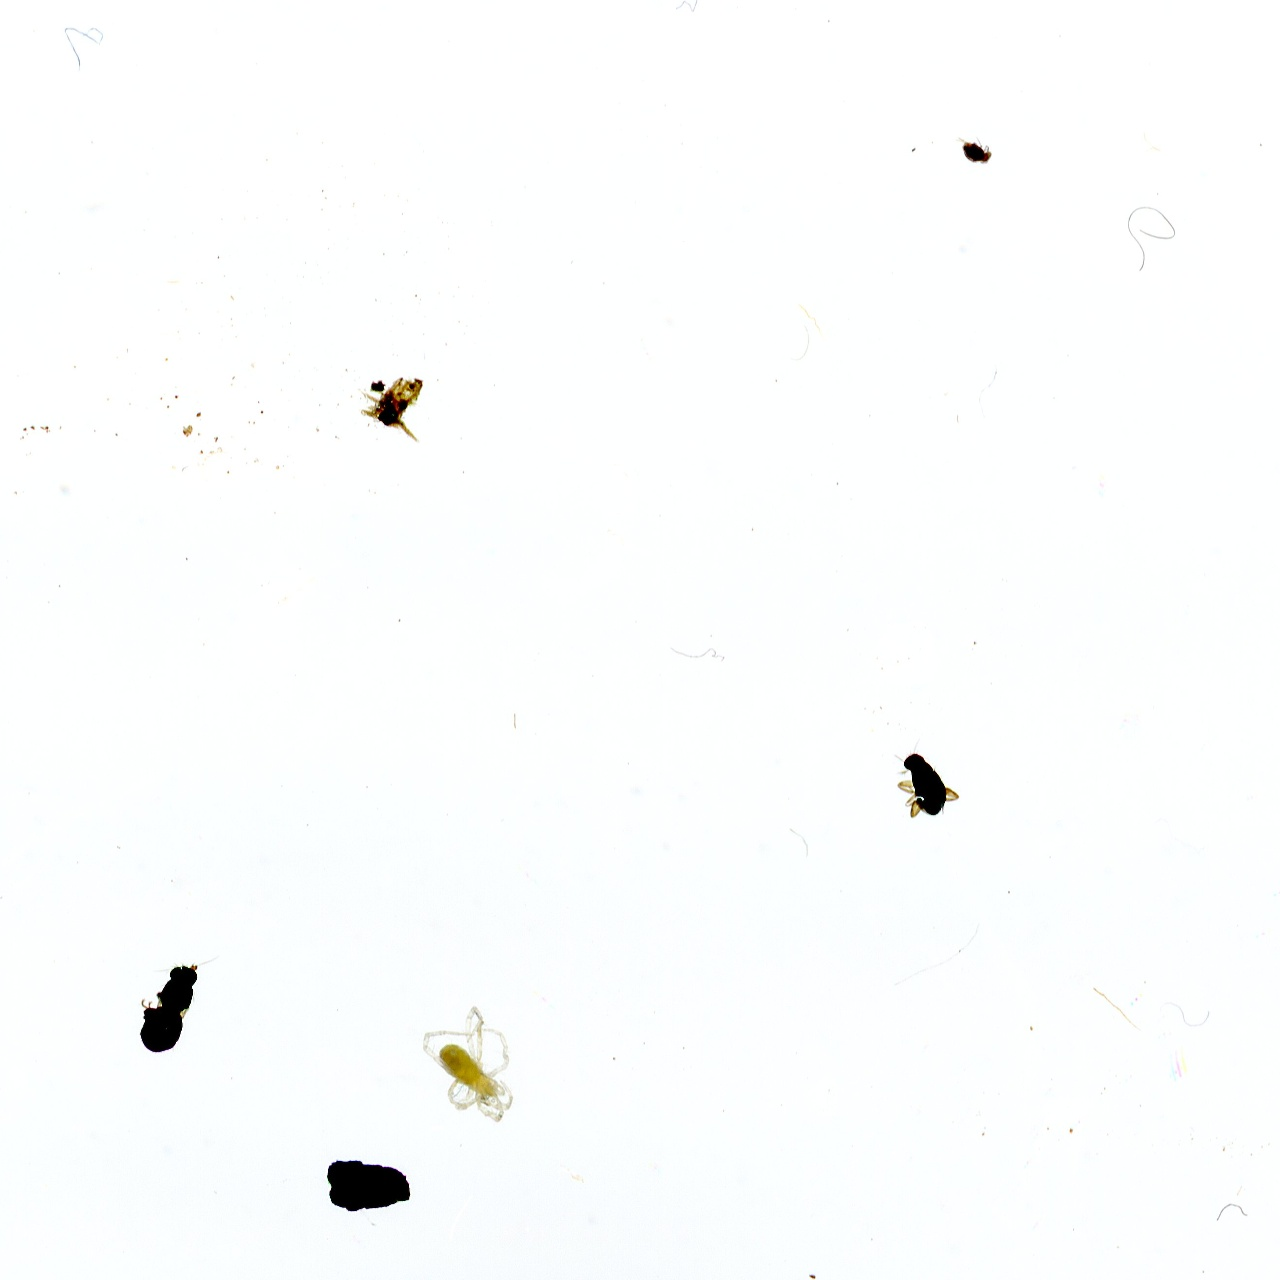arthropod: (121, 927, 230, 1069), (418, 1005, 518, 1124), (888, 734, 965, 824), (953, 135, 995, 166)
